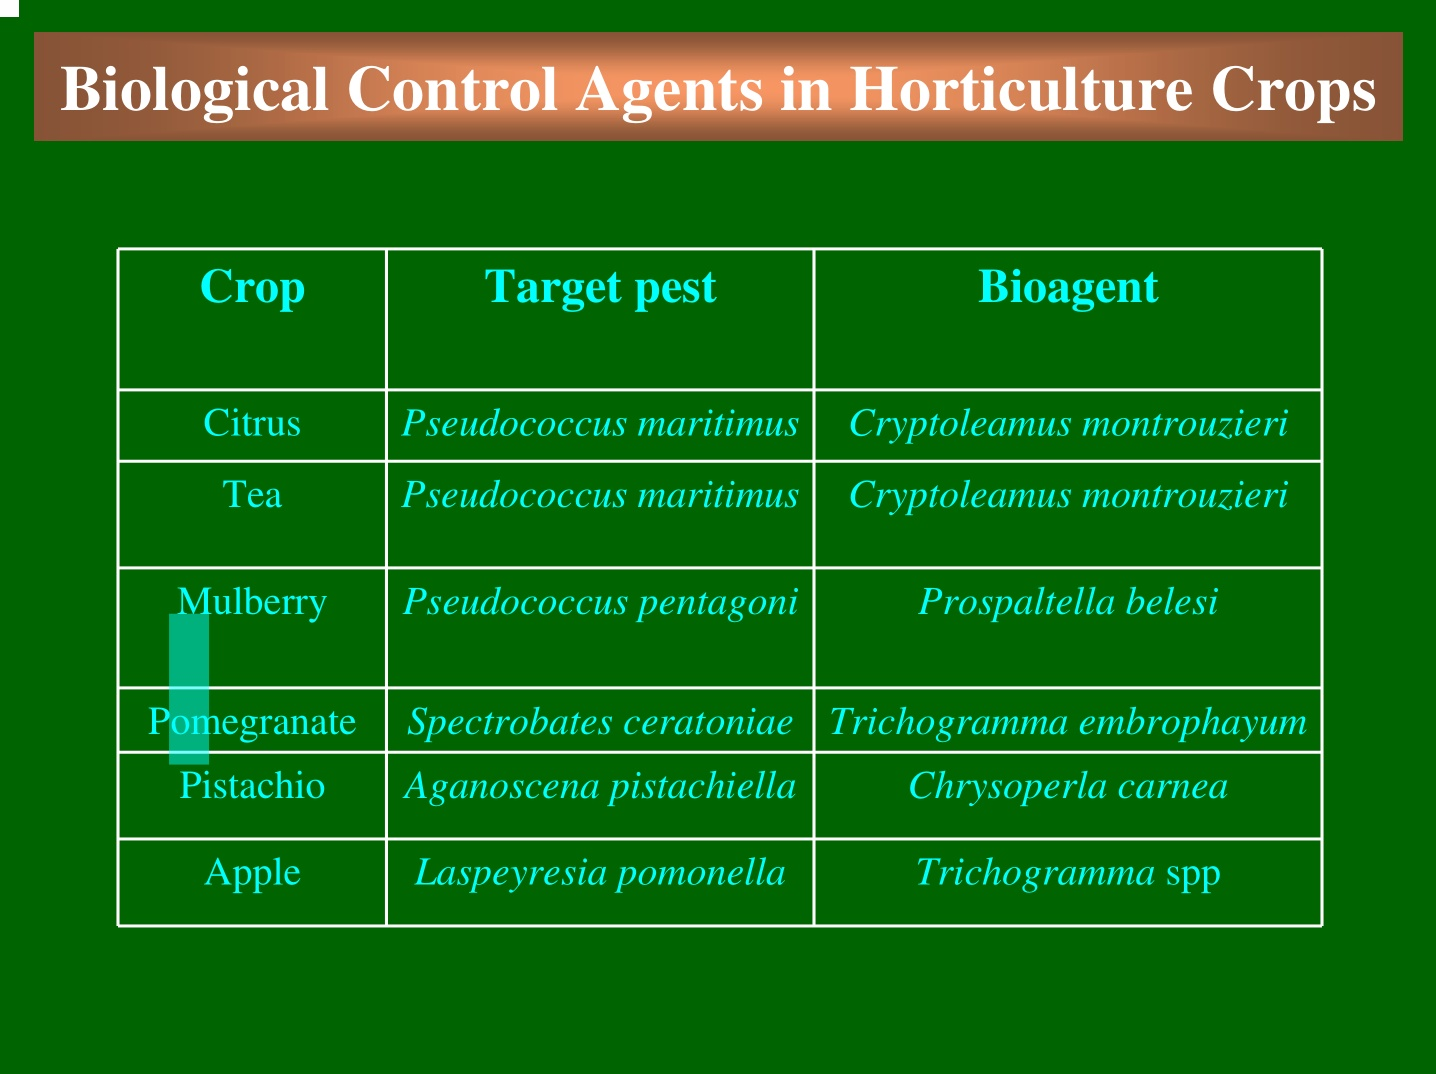full_lined: (114, 246, 1325, 928)
